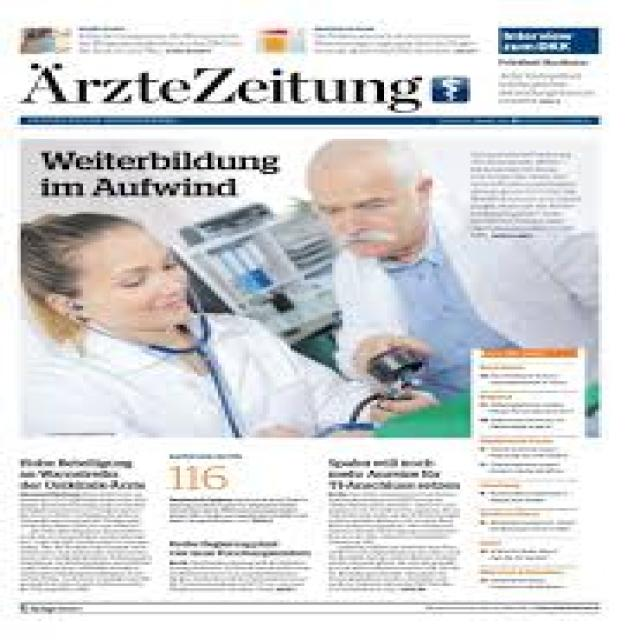paper: (7, 9, 615, 633)
